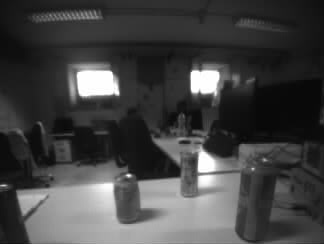Tin can: (238, 157, 272, 239), (114, 173, 141, 222), (180, 151, 198, 195)
